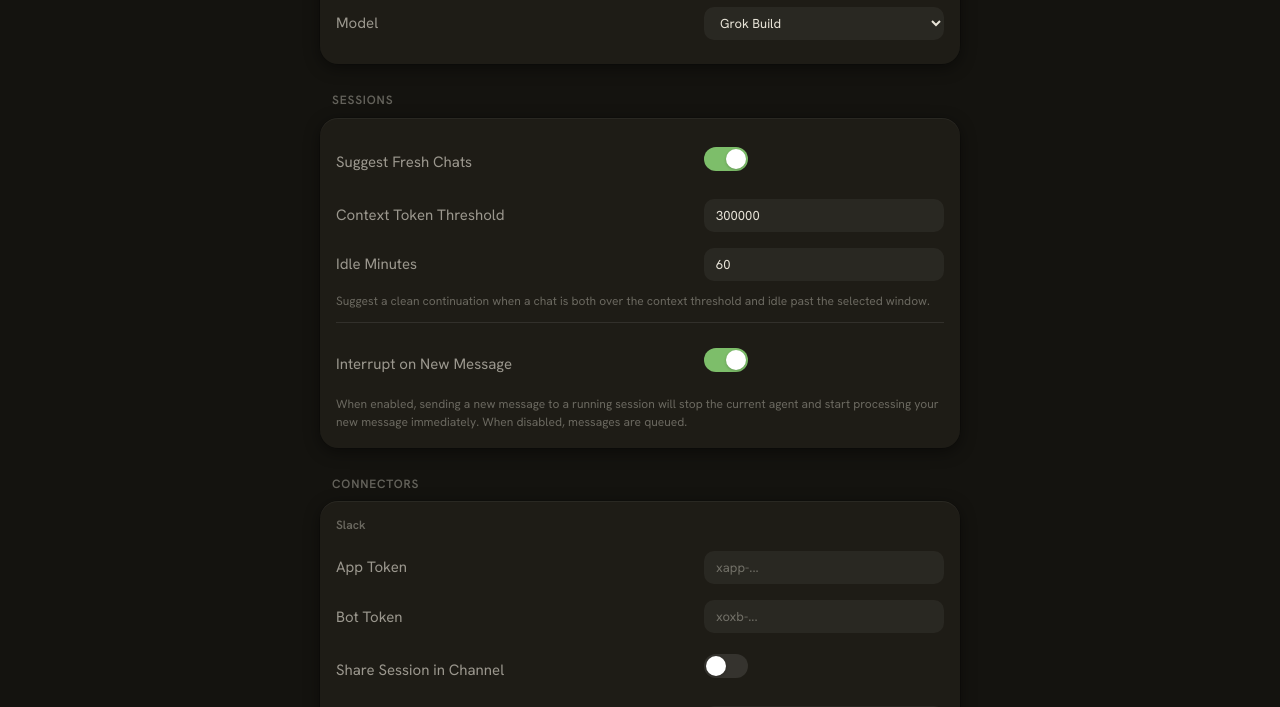
Test case: shows saved with notification pending without claiming a failed save or completed delivery
This screenshot has width=1280, height=707.
Click the switch named "Interrupt on new message" at (726, 360), box top-left (704, 344), bottom-right (748, 378)
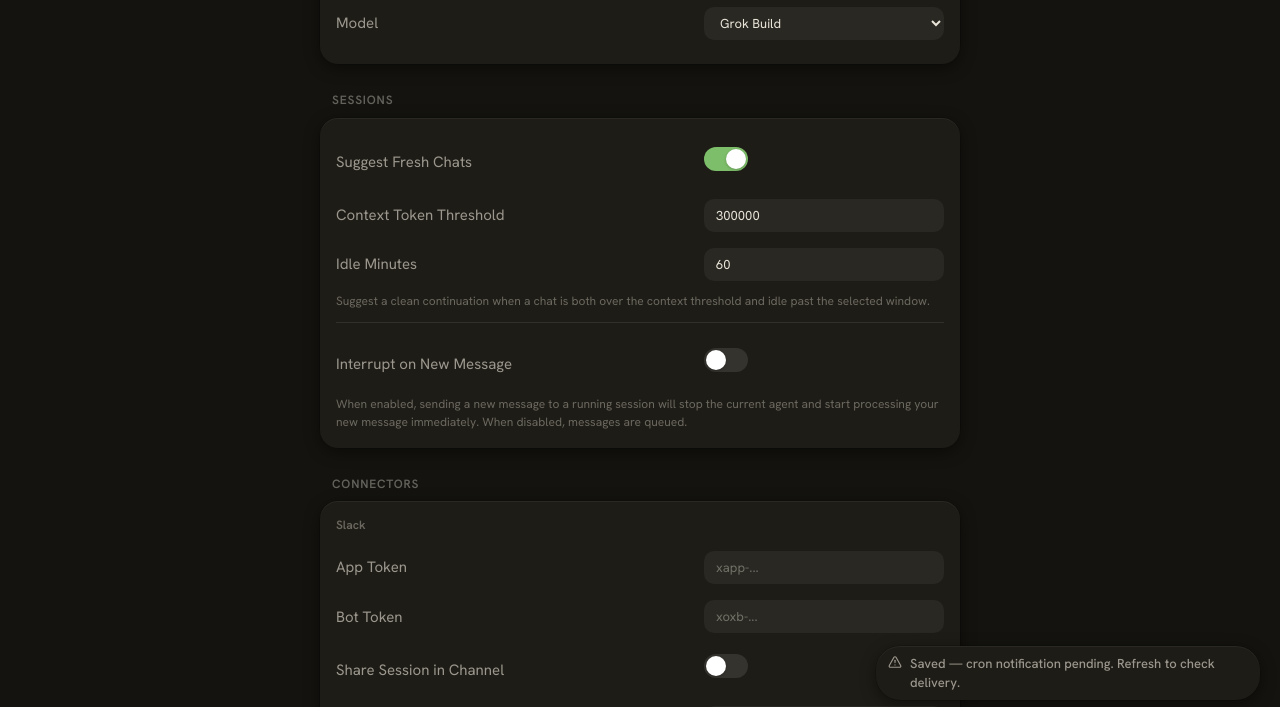
expect the text "Saved — cron notification pending. Refresh to check delivery." is shown: met, box top-left (910, 654), bottom-right (1248, 692)
